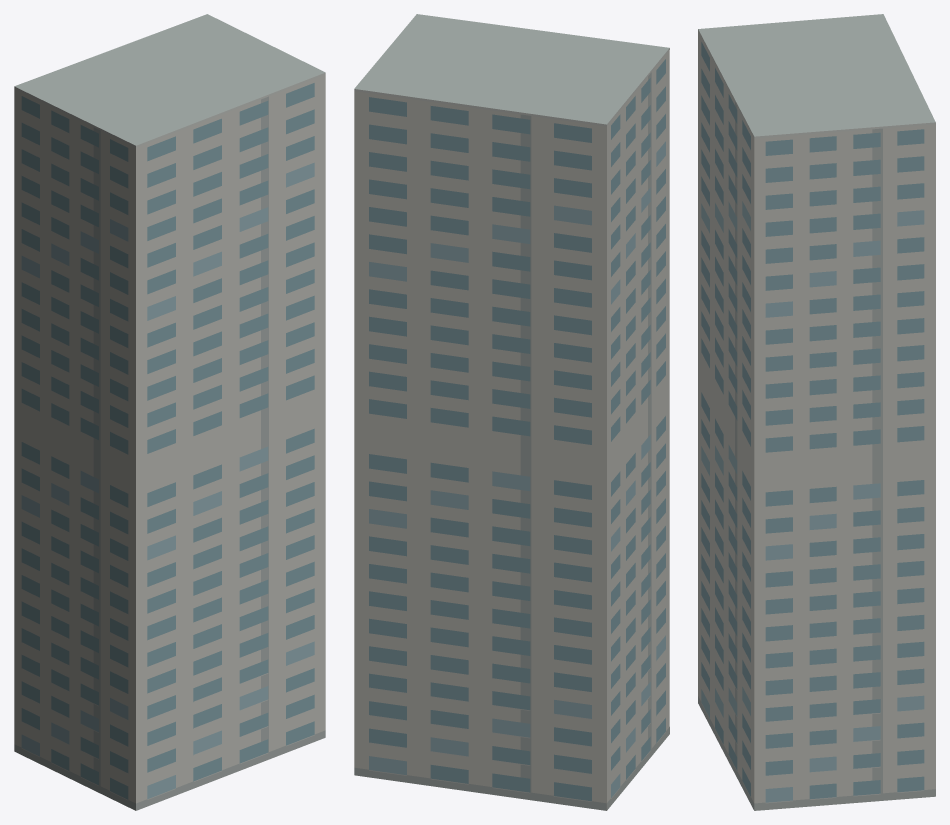
Rendered from residential-4718ccd7-7fa4-4a4c-bb68-b0142d29b397.glb.
The picture shows the model from 3 angles, left to right: view 1: azimuth 30°, elevation 25°; view 2: azimuth 150°, elevation 25°; view 3: azimuth 270°, elevation 25°; orthographic projection. The views are drawn at different scales.
Parts seen in each view (by area): view 1: residential-4718ccd7-7fa4-4a4c-bb68-b0142d29b397.tmp; view 2: residential-4718ccd7-7fa4-4a4c-bb68-b0142d29b397.tmp; view 3: residential-4718ccd7-7fa4-4a4c-bb68-b0142d29b397.tmp.
Boxes of the visible parts, x1,y1,x2,y2 form: residential-4718ccd7-7fa4-4a4c-bb68-b0142d29b397.tmp: (14, 14, 325, 810); residential-4718ccd7-7fa4-4a4c-bb68-b0142d29b397.tmp: (354, 14, 669, 810); residential-4718ccd7-7fa4-4a4c-bb68-b0142d29b397.tmp: (698, 14, 935, 810).
Bounding box in the file's own units: 31.99 × 82 × 26.21.
